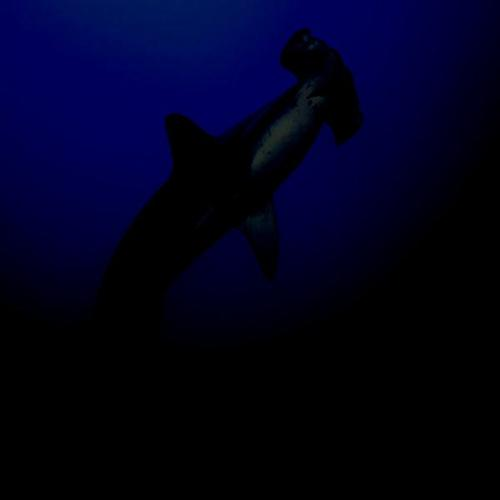shark-endangered: (105, 35, 364, 288)
